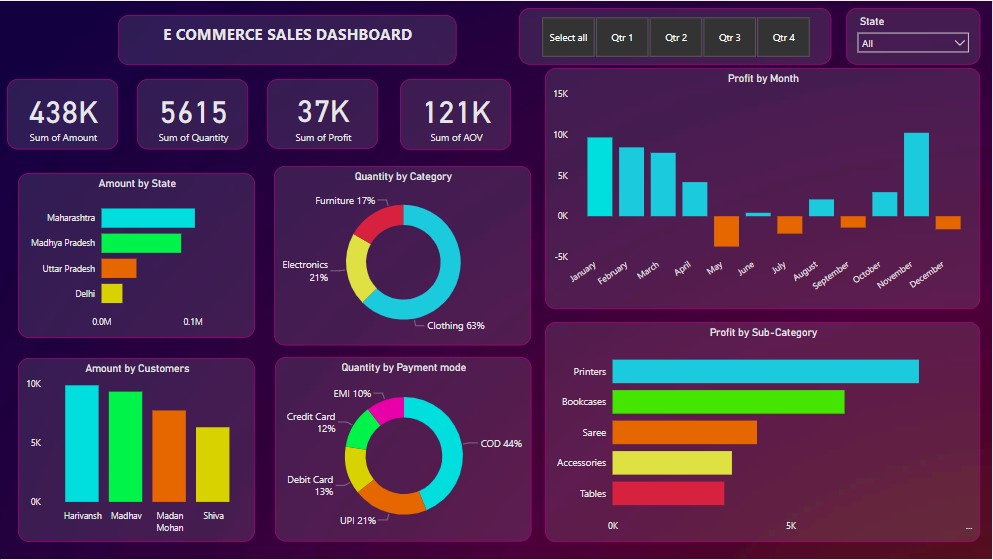

What the dashboard file says about the page in this screenshot:
{"tool":"powerbi","page":{"name":"Page 1","canvas":[1366,768],"ordinal":0},"visuals":[{"type":"textbox","box":[163,19.1,465.6,69],"z":0},{"type":"columnChart","title":"Profit by Month","fields":{"Category":["Orders.Order Date.Variation.Date Hierarchy.Month"],"Y":["Details.Profit"]},"box":[750.6,92.5,599.3,332],"z":1000},{"type":"barChart","title":"Profit by Sub-Category","fields":{"Category":["Details.Sub-Category"],"Y":["Details.Profit"]},"box":[750.6,442.1,599.3,302.6],"z":2000},{"type":"donutChart","title":"Quantity by Category","fields":{"Category":["Details.Category"],"Y":["Details.Quantity"]},"box":[377.5,227.7,354,246.8],"z":3000},{"type":"donutChart","title":"Quantity by Payment mode","fields":{"Y":["Details.Quantity"],"Category":["Details.PaymentMode"]},"box":[379,490.6,352.5,254.1],"z":4000},{"type":"card","fields":{"Values":["Details.Amount"]},"box":[10.3,107.2,152.8,96.9],"z":4001},{"type":"card","fields":{"Values":["Details.AOV"]},"box":[550.5,107.4,152.8,97.7],"z":4002},{"type":"card","fields":{"Values":["Details.Profit"]},"box":[367.5,107.4,152.8,96.3],"z":4003},{"type":"card","fields":{"Values":["Details.Quantity"]},"box":[188,107.2,153,97],"z":4004},{"type":"barChart","title":"Amount by State","fields":{"Category":["Orders.State"],"Y":["Details.Amount"]},"box":[24.8,236.7,326.2,227.1],"z":4005},{"type":"columnChart","title":"Amount by Customers","fields":{"Category":["Orders.CustomerName"],"Y":["Details.Amount"]},"box":[24.8,491.4,326.2,253.2],"z":4006},{"type":"slicer","fields":{"Values":["Orders.Order Date.Variation.Date Hierarchy.Quarter"]},"box":[713.8,10.3,430.4,77.8],"z":4007},{"type":"slicer","fields":{"Values":["Orders.State"]},"box":[1164.8,10.3,185.1,77.8],"z":4008}]}

Visuals, with their boxes in screenshot pixels (x1, y1, x2, y2), scaled from the page's 1366x768 canvas onto the 993x560 screenshot:
textbox: region(118, 14, 457, 64)
"Profit by Month" columnChart: region(546, 67, 981, 310)
"Profit by Sub-Category" barChart: region(546, 322, 981, 543)
"Quantity by Category" donutChart: region(274, 166, 532, 346)
"Quantity by Payment mode" donutChart: region(276, 358, 532, 543)
card - Details.Amount: region(7, 78, 119, 149)
card - Details.AOV: region(400, 78, 511, 150)
card - Details.Profit: region(267, 78, 378, 149)
card - Details.Quantity: region(137, 78, 248, 149)
"Amount by State" barChart: region(18, 173, 255, 338)
"Amount by Customers" columnChart: region(18, 358, 255, 543)
slicer - Orders.Order Date.Variation.Date Hierarchy.Quarter: region(519, 8, 832, 64)
slicer - Orders.State: region(847, 8, 981, 64)
